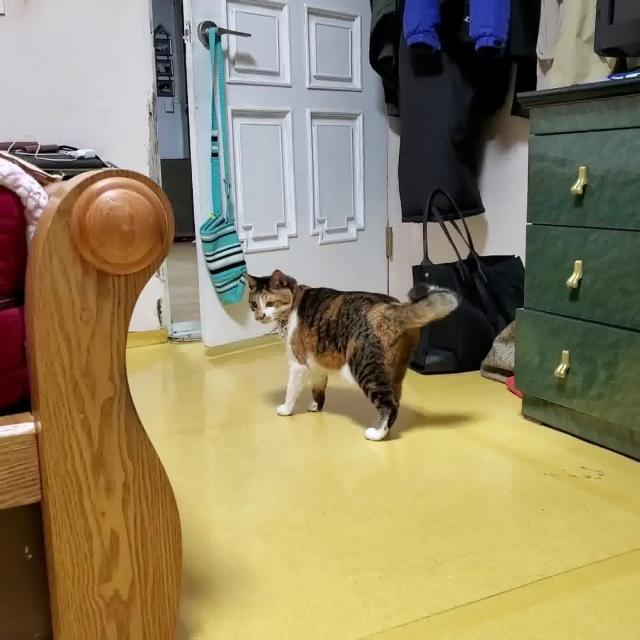cat: (238, 260, 464, 451)
